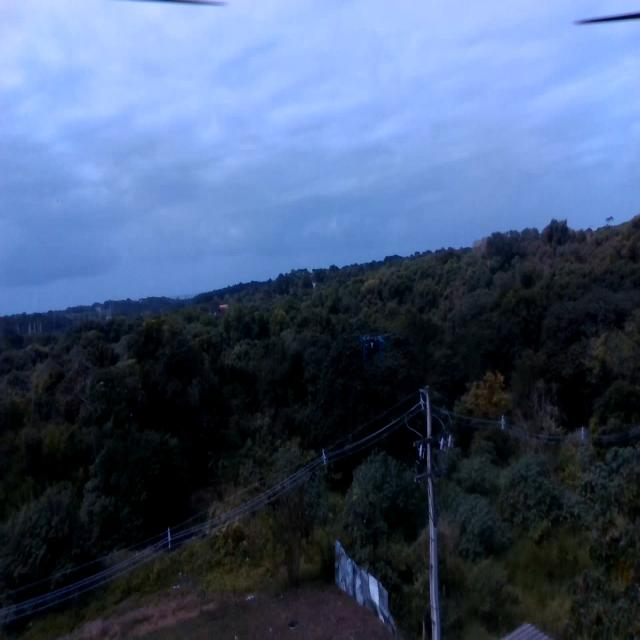-uav-: (348, 326, 404, 384)
